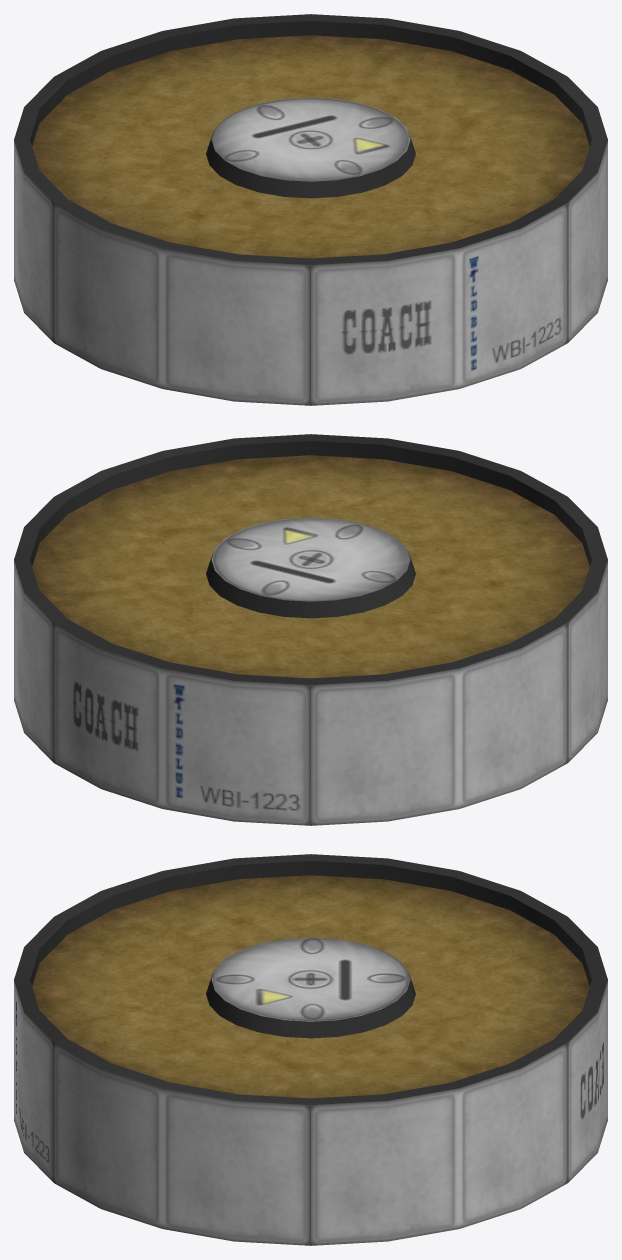
The model's file is Coach225.FBX.
The picture shows the model from 3 angles, top to bottom: view 1: azimuth 30°, elevation 25°; view 2: azimuth 150°, elevation 25°; view 3: azimuth 270°, elevation 25°; orthographic projection.
Parts seen in each view (by area): view 1: Cylinder001; view 2: Cylinder001; view 3: Cylinder001.
Part boxes in pixels (x1,y1,x2,y2): Cylinder001: (14, 14, 607, 405); Cylinder001: (14, 434, 607, 825); Cylinder001: (14, 854, 607, 1245).
Size of what is drawn, in the model's own units: 1.87 by 0.49 by 1.87.
1 material, 1 textured.
